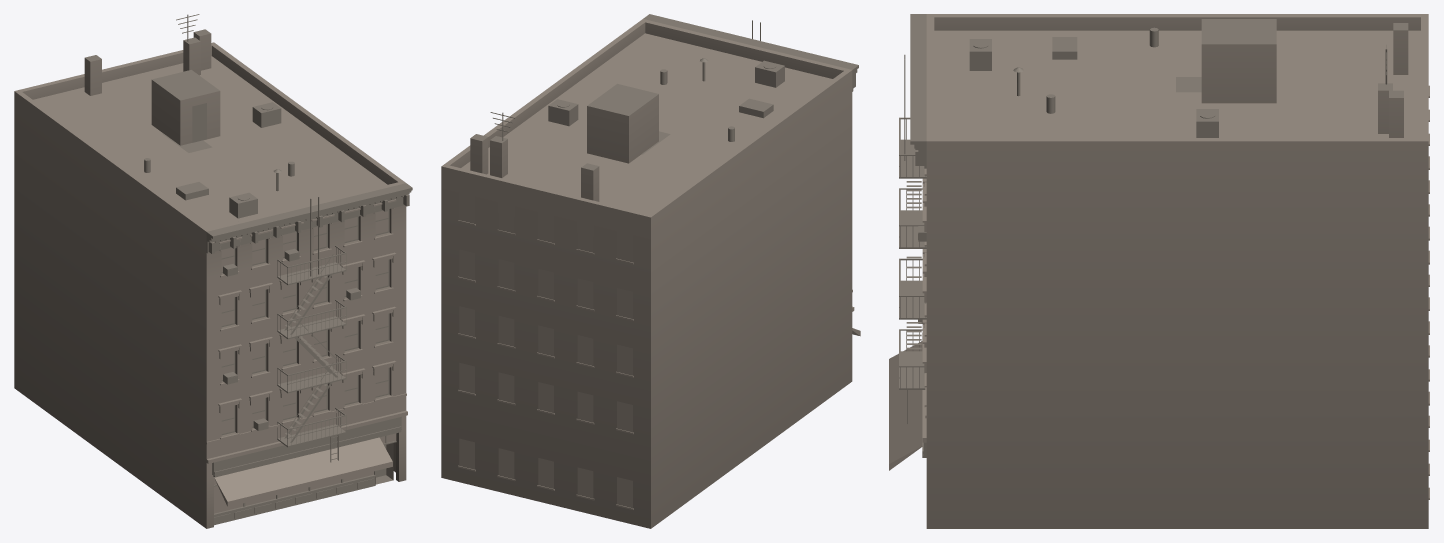
File: corner_right_b.glb
The picture shows the model from 3 angles, left to right: view 1: azimuth 30°, elevation 25°; view 2: azimuth 150°, elevation 25°; view 3: azimuth 270°, elevation 25°; orthographic projection. The views are drawn at different scales.
Parts seen in each view (by area): view 1: corner_right_b; view 2: corner_right_b; view 3: corner_right_b.
Boxes of the visible parts, box(x1,y1,x2,y2) form: corner_right_b: box(14, 14, 412, 528); corner_right_b: box(441, 14, 860, 528); corner_right_b: box(889, 14, 1429, 528).
Bounding box in the file's own units: 12 × 19.9 × 21.55.
